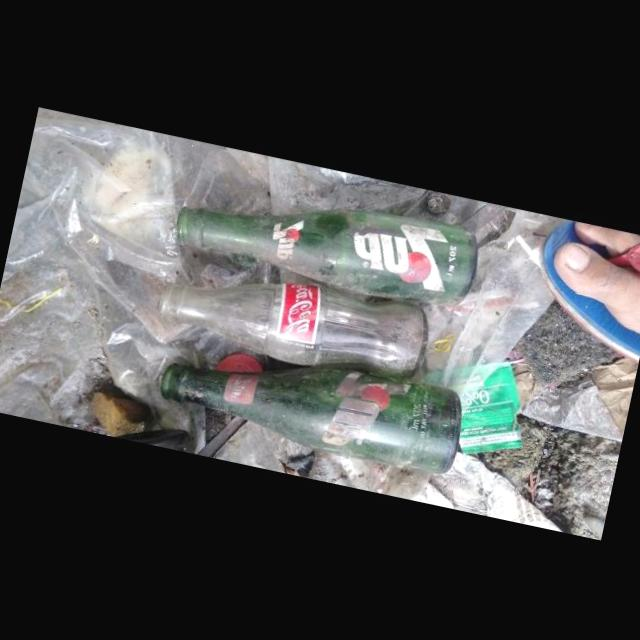chai_thuy_tinh: (158, 360, 461, 473), (176, 204, 478, 306), (159, 281, 430, 379)
goi_nhua_nho: (458, 361, 521, 453)
